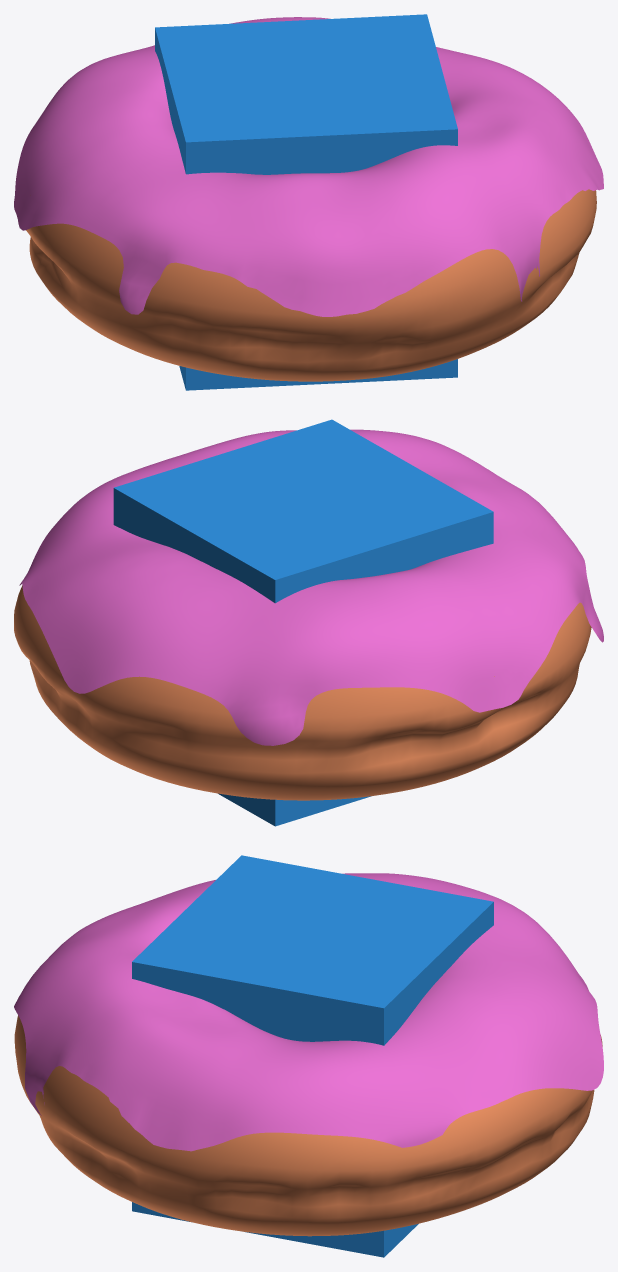
Rendered from donutblend2.glb.
3 renders of one model, top to bottom at view 1: azimuth 30°, elevation 25°; view 2: azimuth 150°, elevation 25°; view 3: azimuth 270°, elevation 25°, orthographic.
Parts seen in each view (by area): view 1: icing, donut, Cube; view 2: icing, donut, Cube; view 3: icing, donut, Cube.
Boxes of the visible parts, left/top/right/bottom form: icing: left=14, top=17, right=603, bottom=316; donut: left=26, top=189, right=596, bottom=381; Cube: left=155, top=14, right=457, bottom=390; icing: left=19, top=429, right=603, bottom=745; donut: left=14, top=585, right=591, bottom=800; Cube: left=113, top=419, right=493, bottom=826; icing: left=14, top=873, right=603, bottom=1151; donut: left=14, top=1015, right=602, bottom=1236; Cube: left=132, top=855, right=493, bottom=1257.
Size of what is drawn, in the model's own units: 0.1488 by 0.07 by 0.1501.
